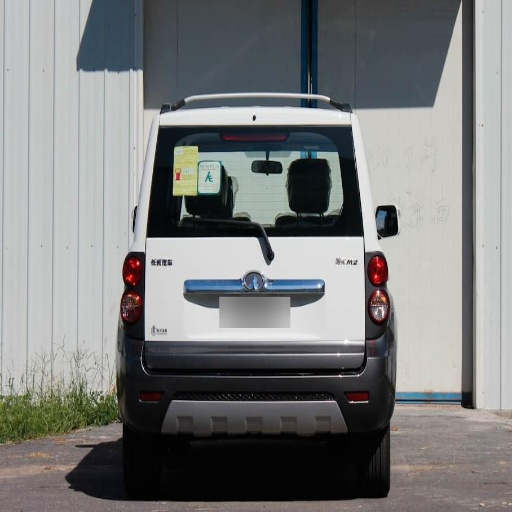back_bumper: (121, 329, 386, 434)
trunk: (143, 238, 367, 369)
